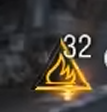1fire: (33, 62, 93, 93)
